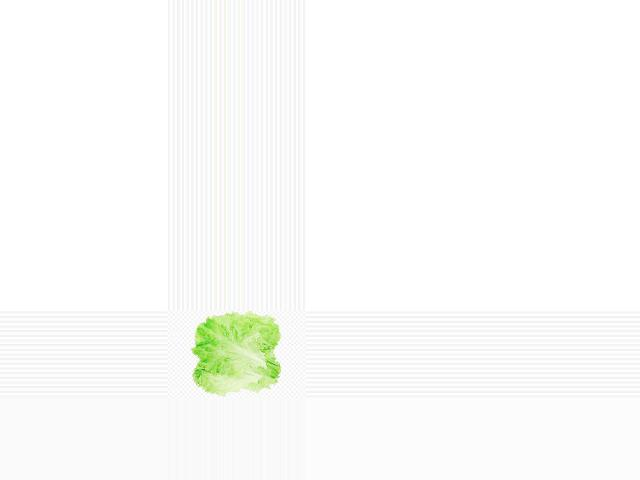lettuce: (185, 309, 287, 398)
